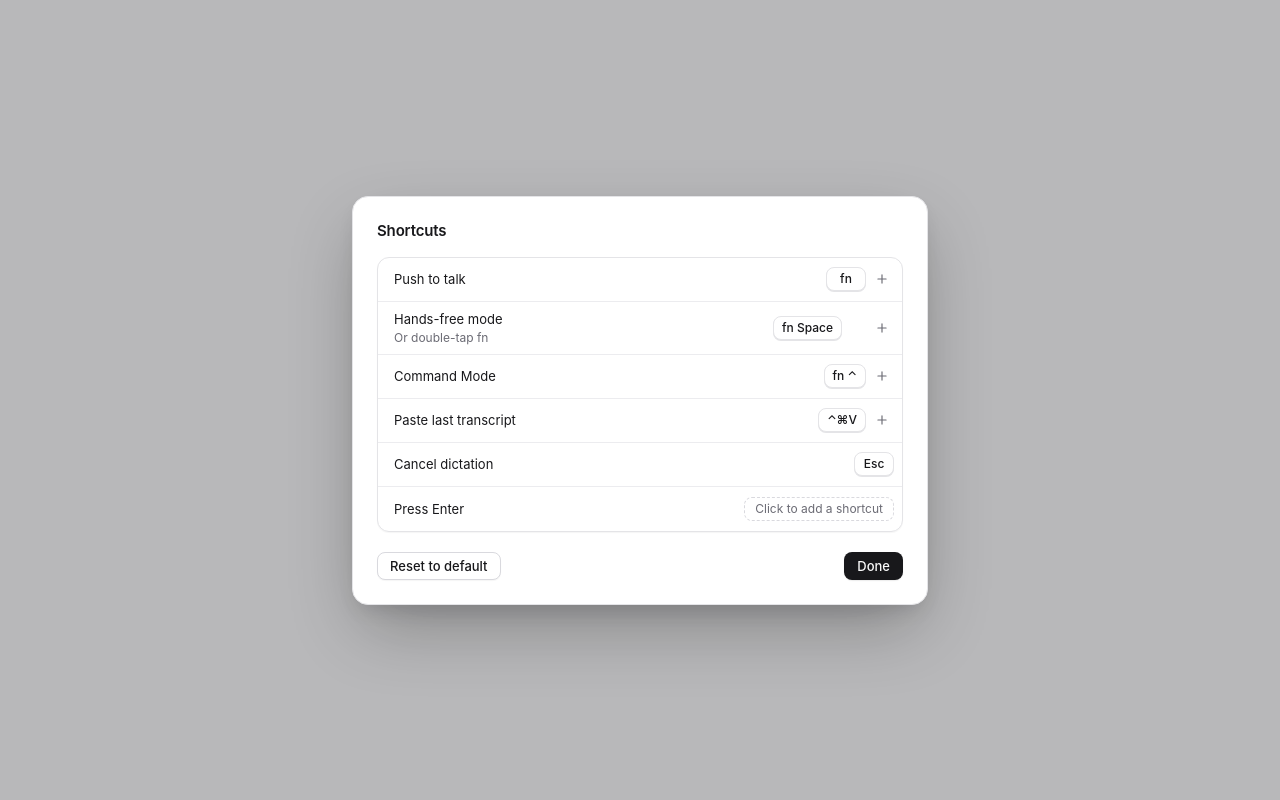
Test: ShortcutsDialog › shows why a shortcut was refused
Expected: the text "Push to talk" is shown, [394,271,466,287]
Click the button "Click to add a shortcut".
click(819, 508)  # box [744,496,894,520]
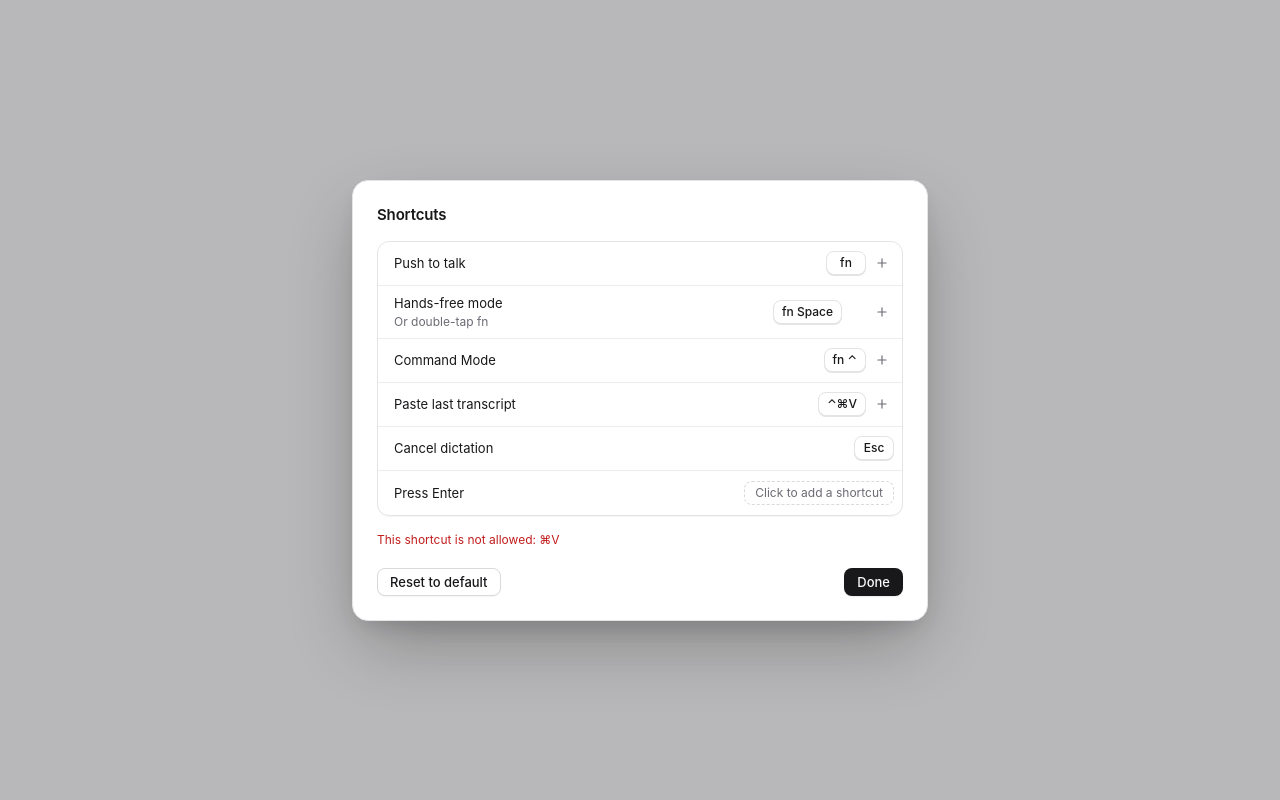
Now the message reads "This shortcut is not allowed: ⌘V", box [377,532,560,546]
